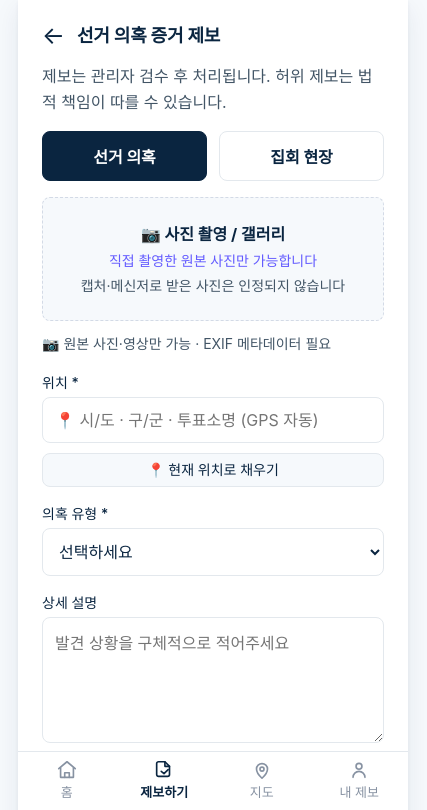
Test case: ReportForm 도메인 세그먼트(0014) › 도메인 전환 시 다른 도메인 분류값은 초기화된다
Type "관찰" into the text box labelled "상세 설명" at x=213, y=680, box [42,617,384,743]
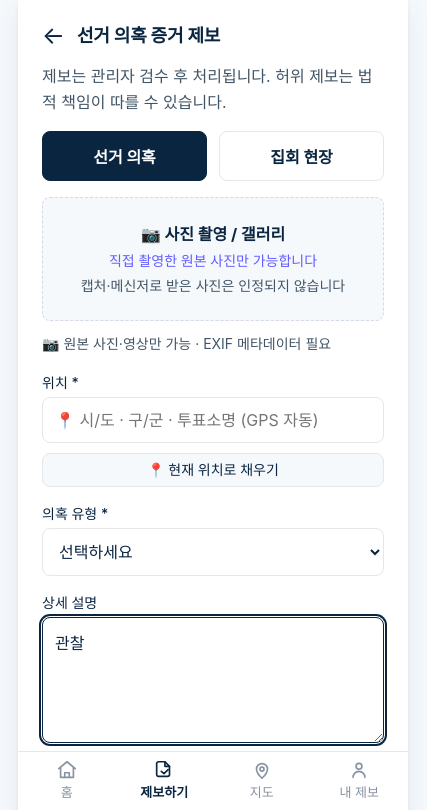
election 분류 선택 후 집회로 전환 → 분류 초기화
Select "투개표" in the dropdown labelled "의혹 유형" at x=213, y=552, box [42,528,384,576]
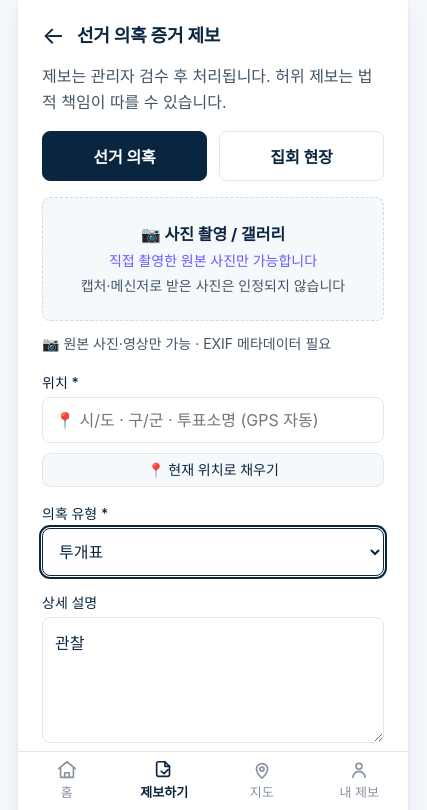
Click the button "집회 현장" at x=302, y=156, box [219,131,384,181]
(page scrolled)
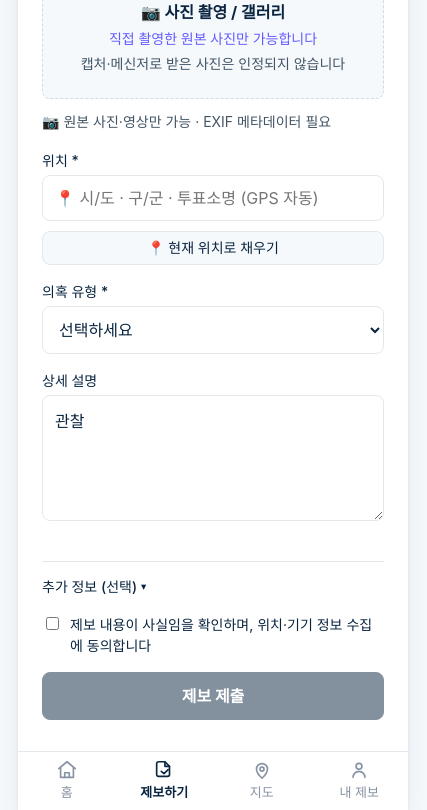
Click the checkbox labelled "제보 내용이 사실임을 확인하며, 위치·기기 정보 수집에 동의합니다" at x=52, y=624, box [46,617,59,630]
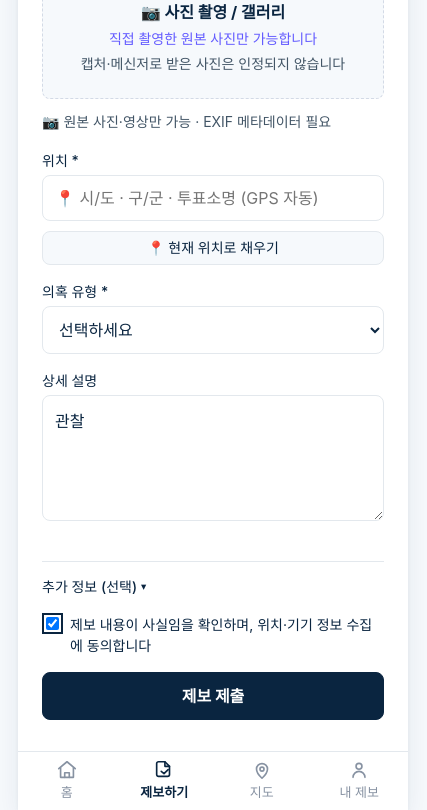
Click the button "제보 제출" at x=213, y=696, box [42,672,384,720]
(page scrolled)
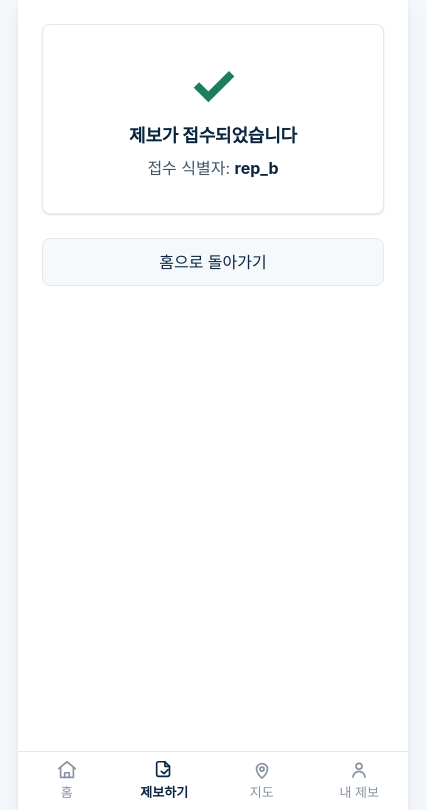
Expected: the heading "제보가 접수되었습니다" is shown, [129,125,297,146]
